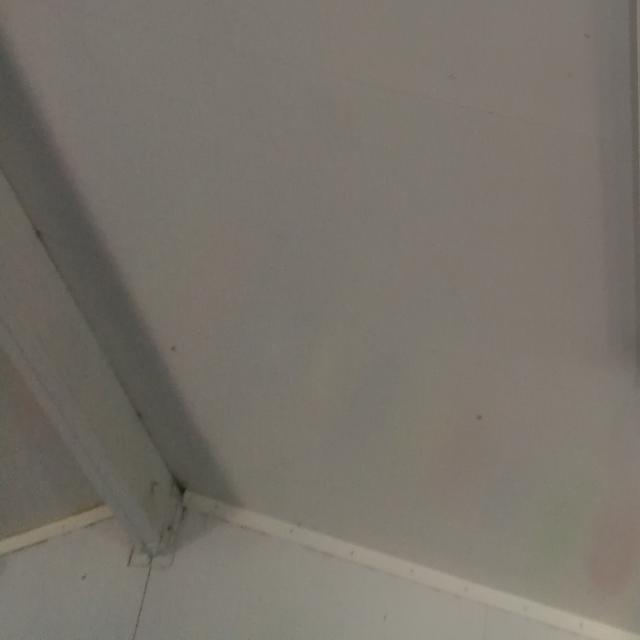fluorescent tube: (593, 0, 640, 450)
